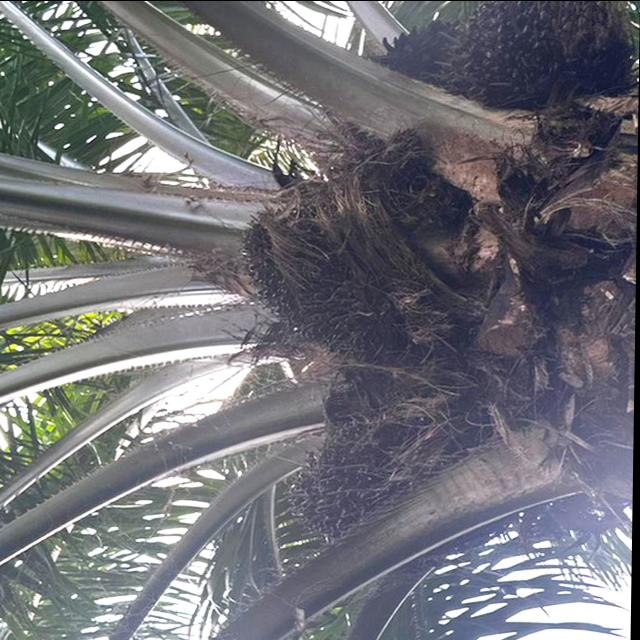unripe: (231, 178, 428, 366)
